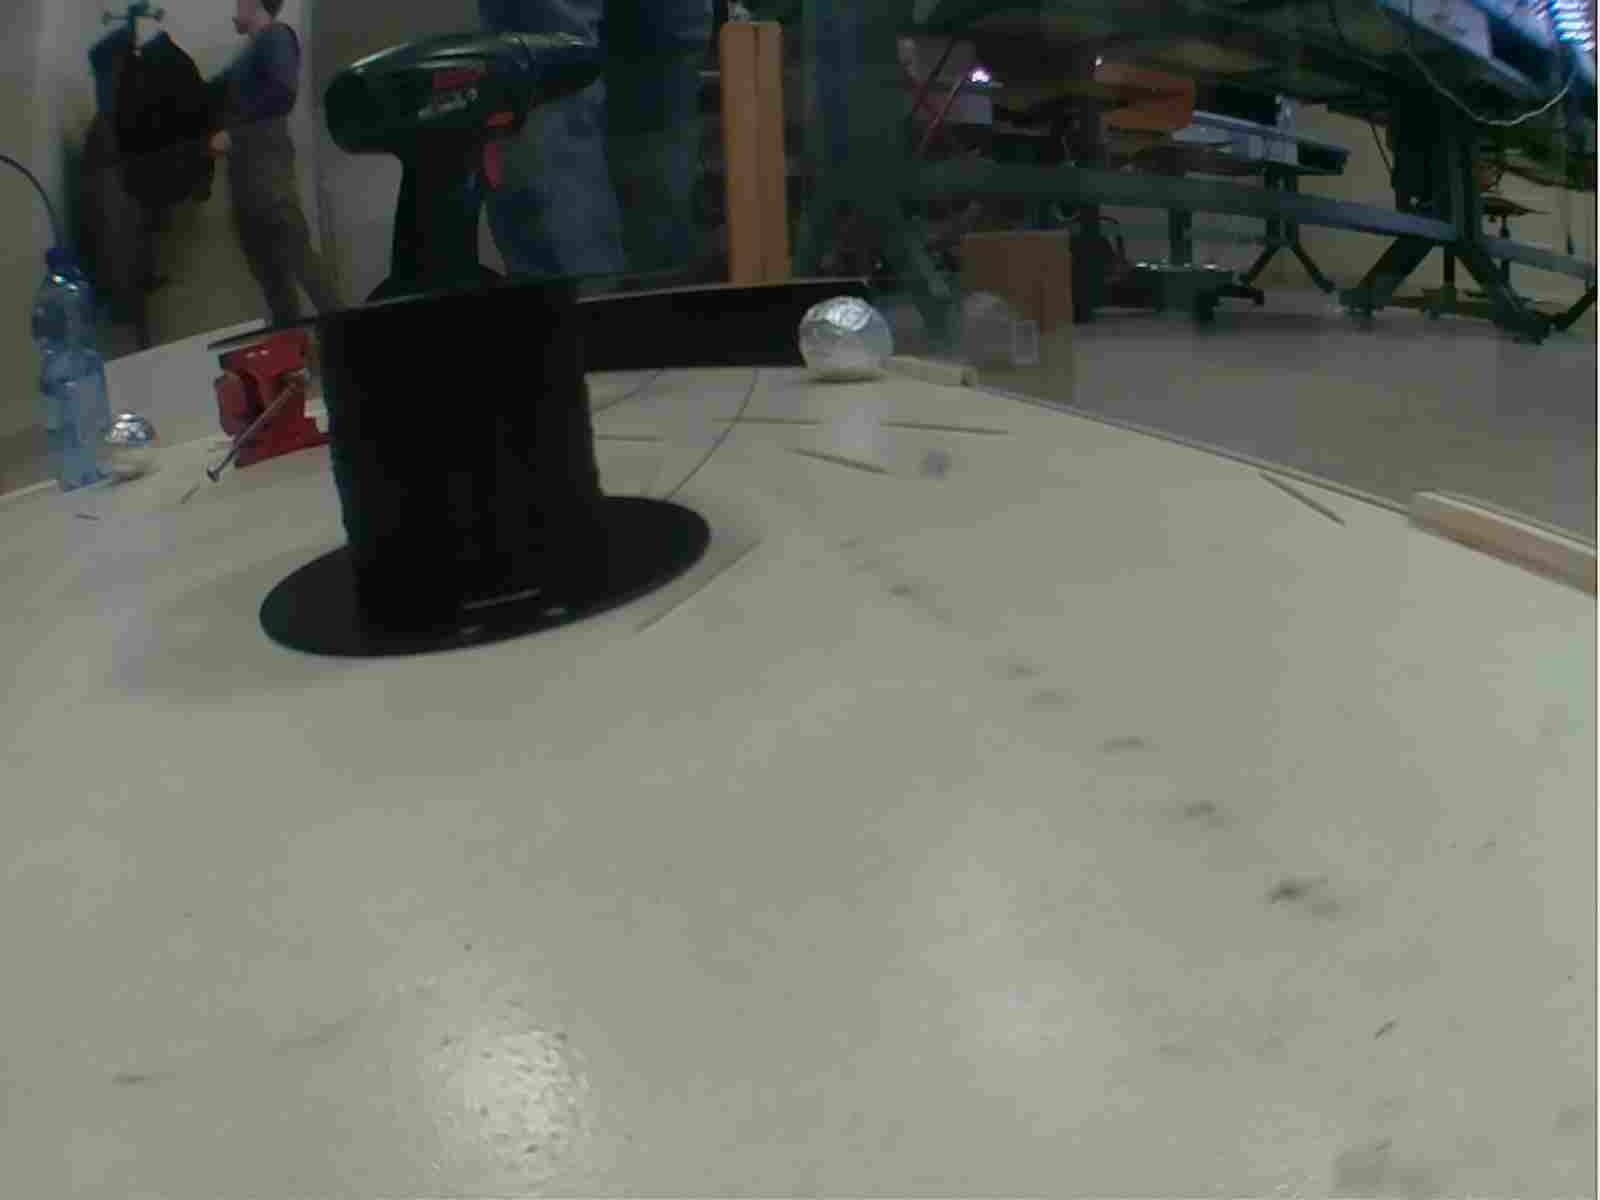bianca: (799, 295, 896, 384), (100, 408, 165, 489)
